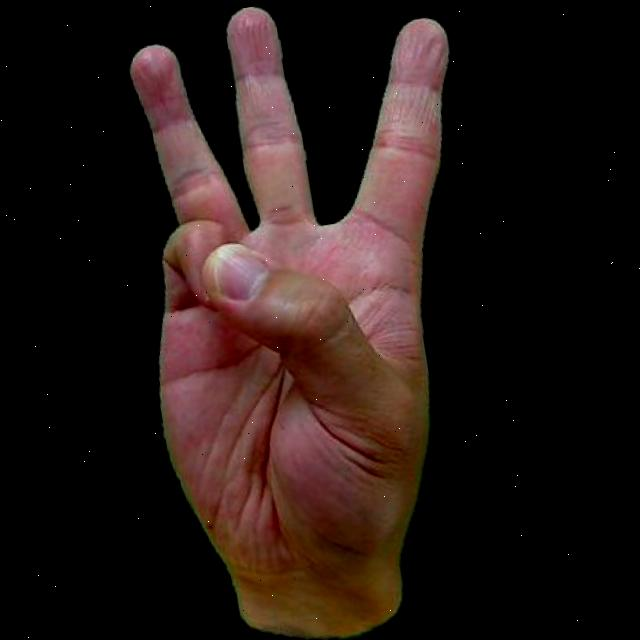w: (77, 0, 557, 640)
